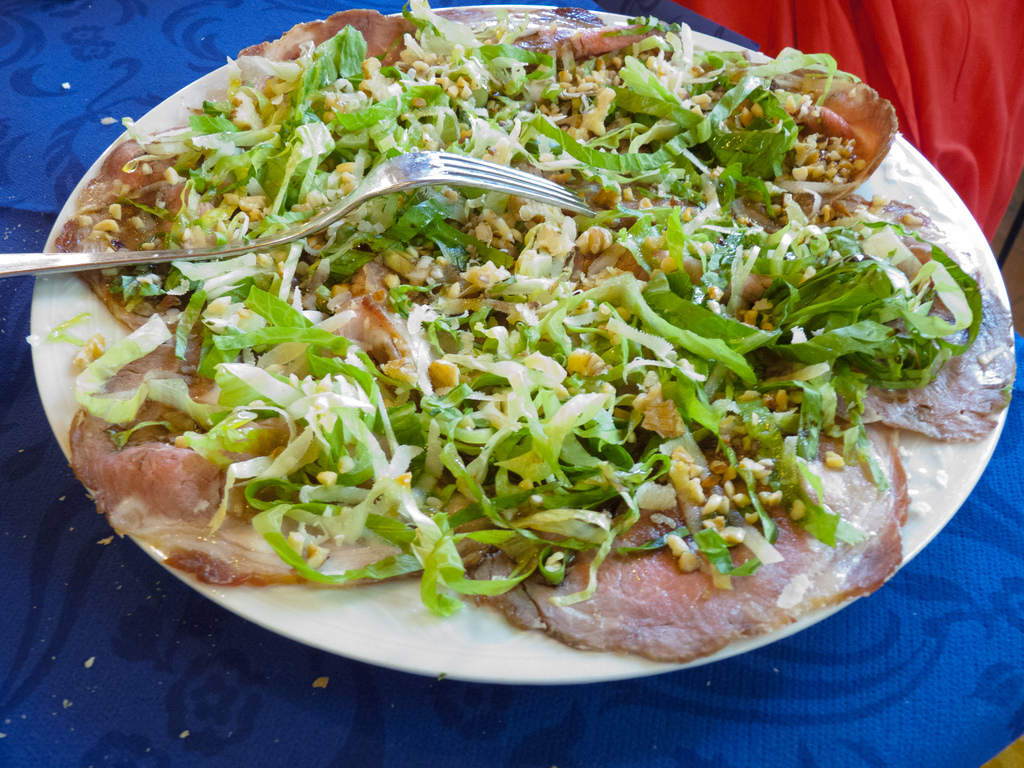chopped lettuce: (188, 108, 789, 544)
